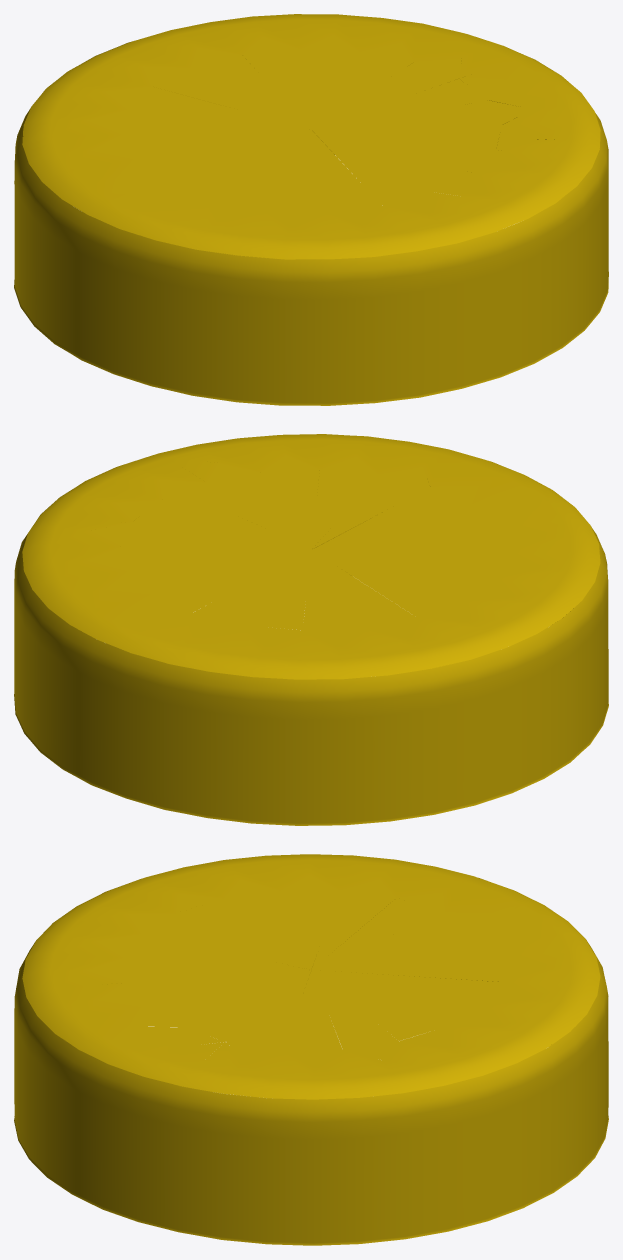
File: original-6.obj
3 views of the same model, one above another, from view 1: azimuth 30°, elevation 25°; view 2: azimuth 150°, elevation 25°; view 3: azimuth 270°, elevation 25° (orthographic).
Parts seen in each view (by area): view 1: group_1/ID106#ID106; view 2: group_1/ID106#ID106; view 3: group_1/ID106#ID106.
Boxes of the visible parts, x1,y1,x2,y2 form: group_1/ID106#ID106: (14,14,608,405); group_1/ID106#ID106: (14,434,608,825); group_1/ID106#ID106: (14,854,608,1245).
Bounding box in the file's own units: 0.2879 × 0.0803 × 0.2879.
